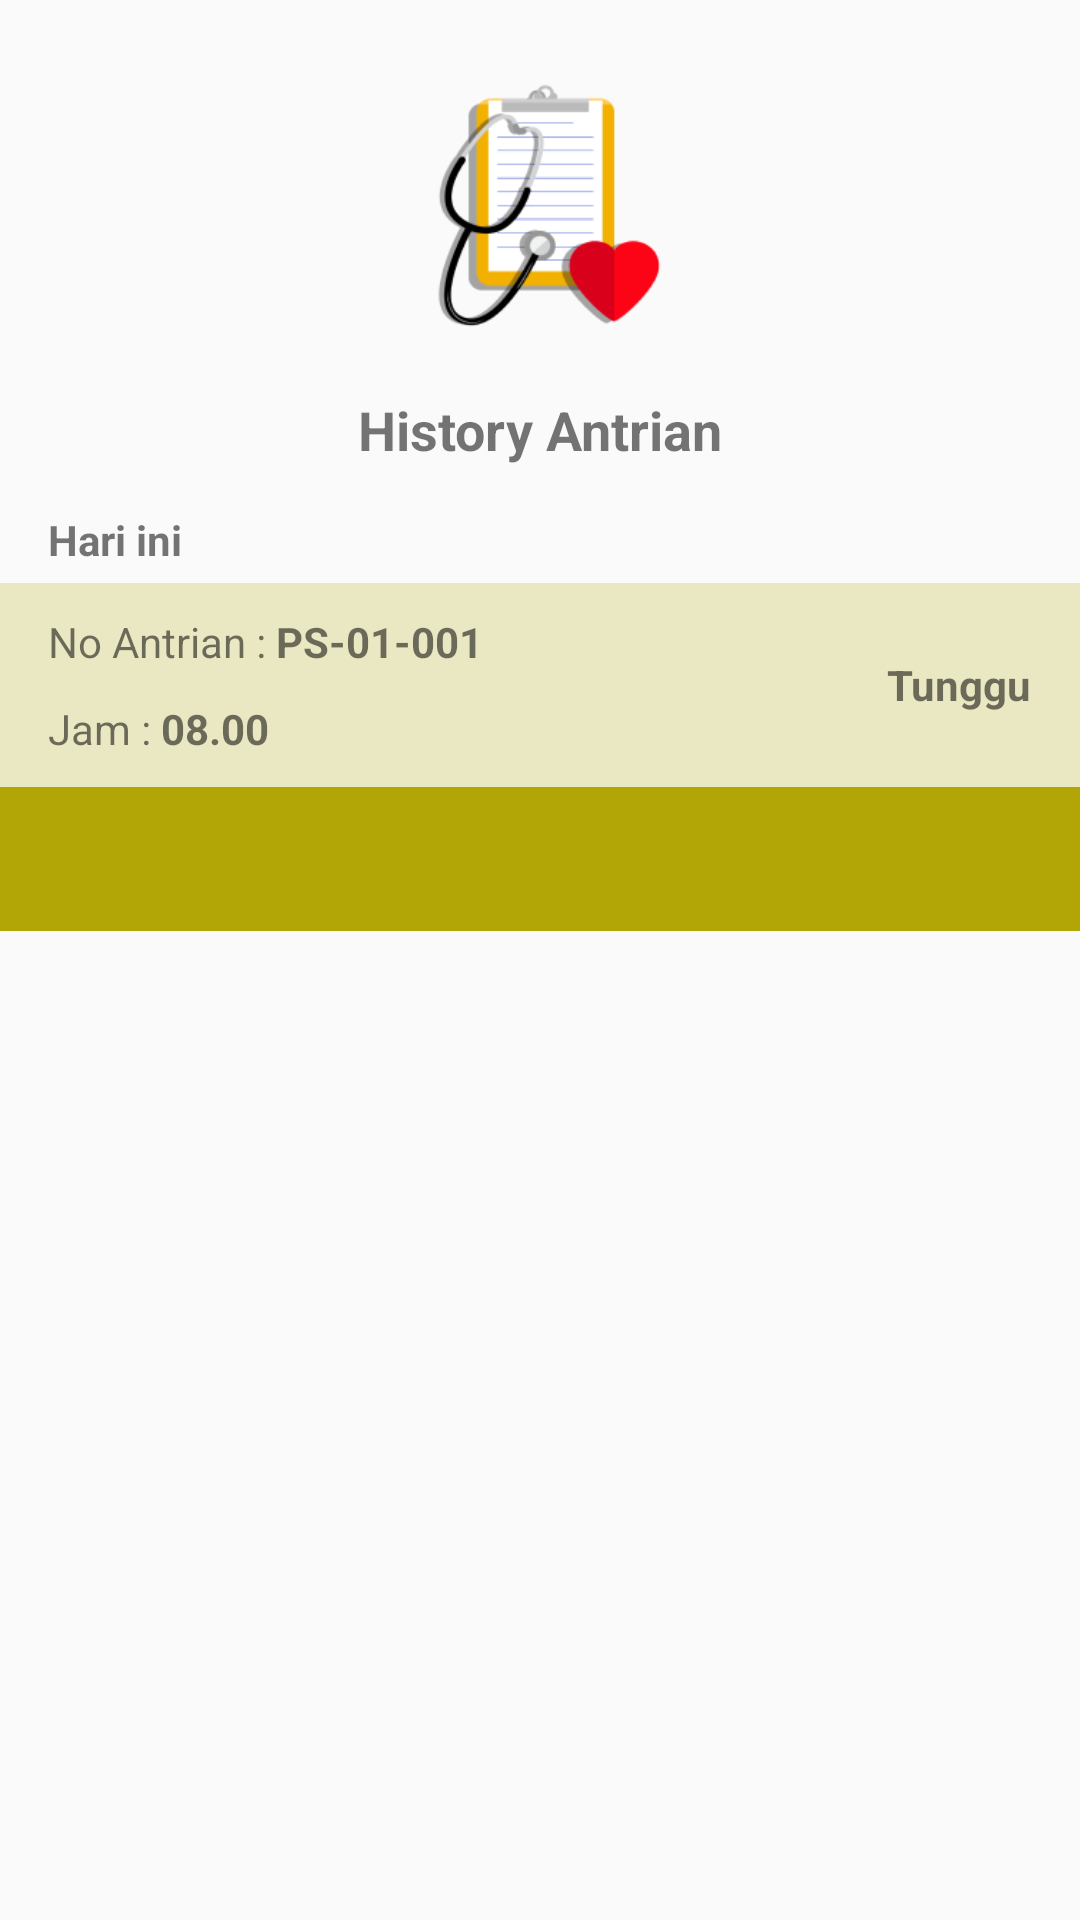

Where icons sit on this 1080px×1920px app screen, as bbox=(x1, y1, x2, y2):
riwayat: bbox=(438, 85, 660, 326)
